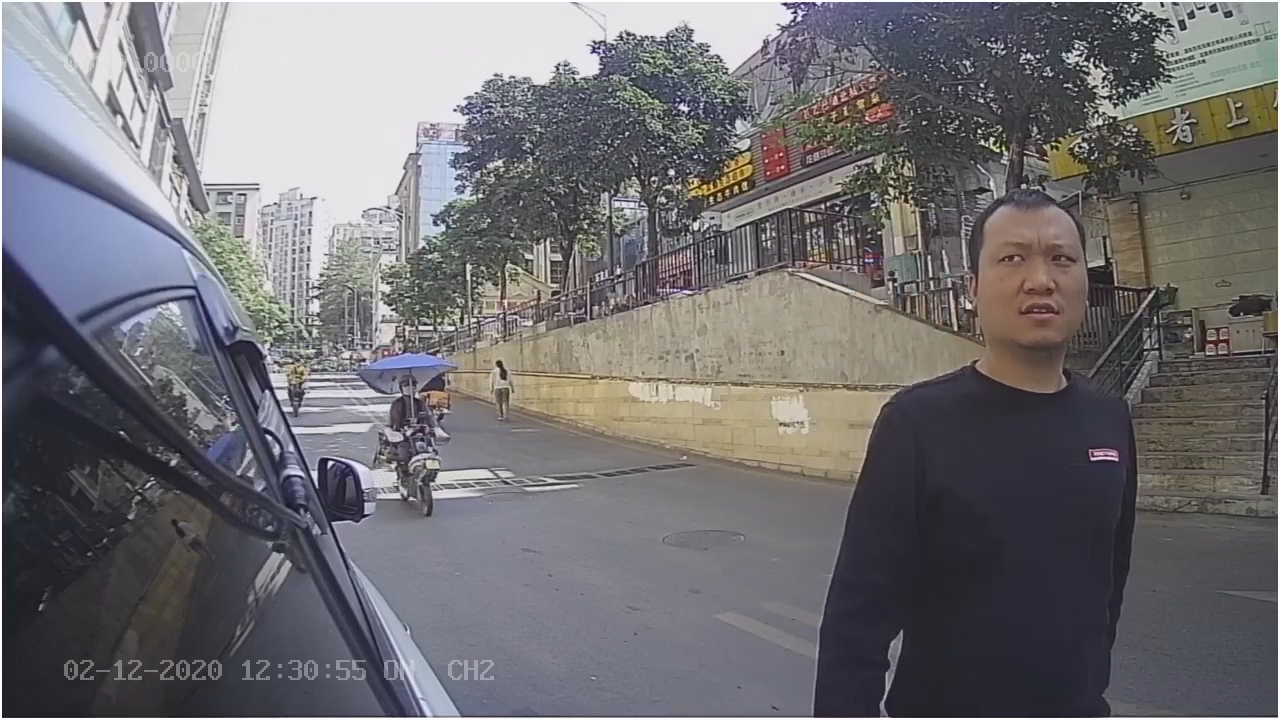person: (836, 192, 1149, 615)
